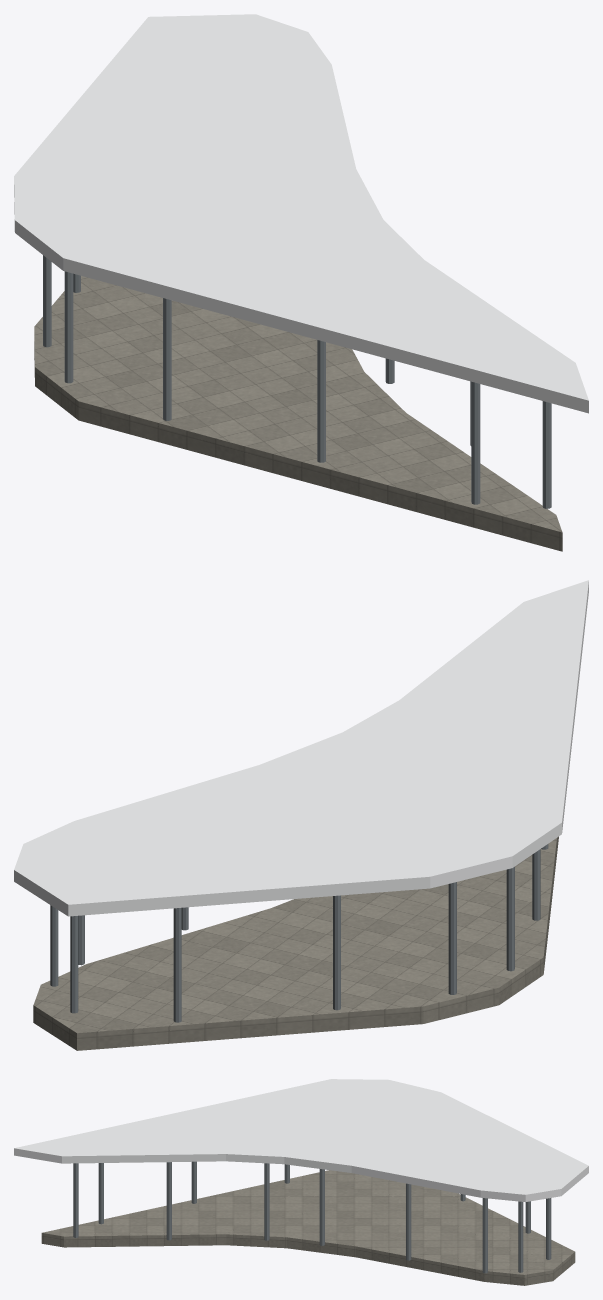
3 renders of one model, top to bottom at view 1: azimuth 30°, elevation 25°; view 2: azimuth 150°, elevation 25°; view 3: azimuth 270°, elevation 25°, orthographic. The views are drawn at different scales.
Parts seen in each view (by area): view 1: pavilion-west__canopy, pavilion-west__stone, pavilion-west__steel; view 2: pavilion-west__canopy, pavilion-west__stone, pavilion-west__steel; view 3: pavilion-west__canopy, pavilion-west__stone, pavilion-west__steel.
Boxes of the visible parts, x1=… form: pavilion-west__canopy: x1=14, y1=14, x2=588, y2=413; pavilion-west__stone: x1=34, y1=276, x2=562, y2=551; pavilion-west__steel: x1=43, y1=255, x2=551, y2=508; pavilion-west__canopy: x1=14, y1=580, x2=588, y2=916; pavilion-west__stone: x1=33, y1=836, x2=558, y2=1050; pavilion-west__steel: x1=50, y1=844, x2=548, y2=1022; pavilion-west__canopy: x1=14, y1=1079, x2=588, y2=1201; pavilion-west__stone: x1=41, y1=1170, x2=575, y2=1285; pavilion-west__steel: x1=73, y1=1161, x2=551, y2=1273.
Bounding box in the file's own units: 9.5 × 3.68 × 19.95.
Materials: 3 (1 with a texture image).
